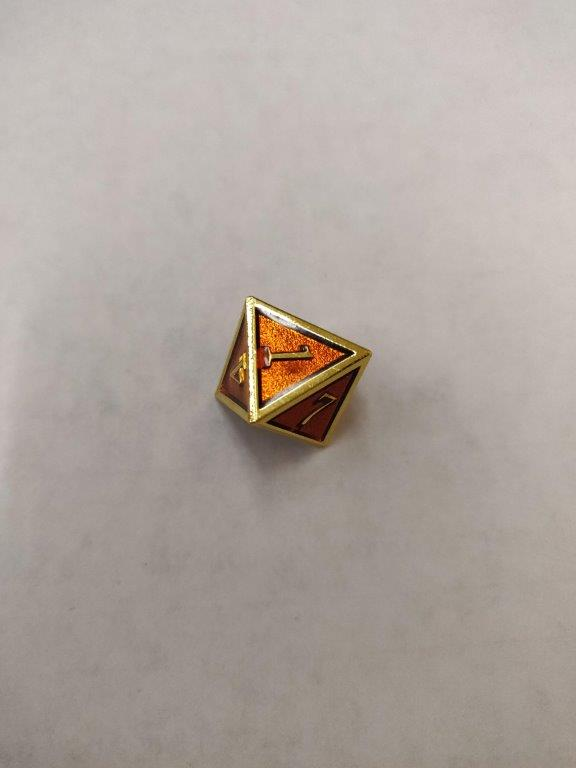d8-1: (210, 295, 371, 451)
